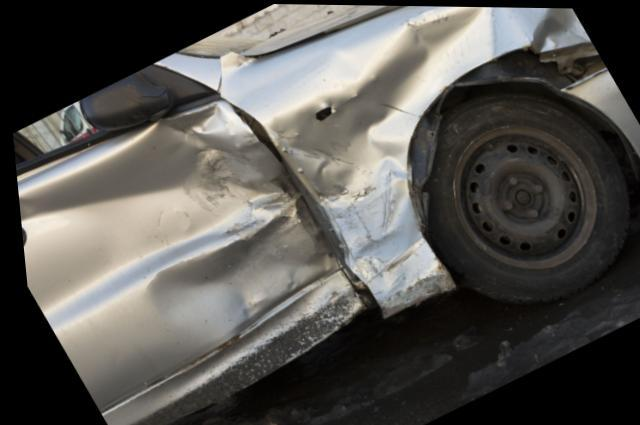dent: (270, 5, 589, 308), (15, 100, 334, 347)
